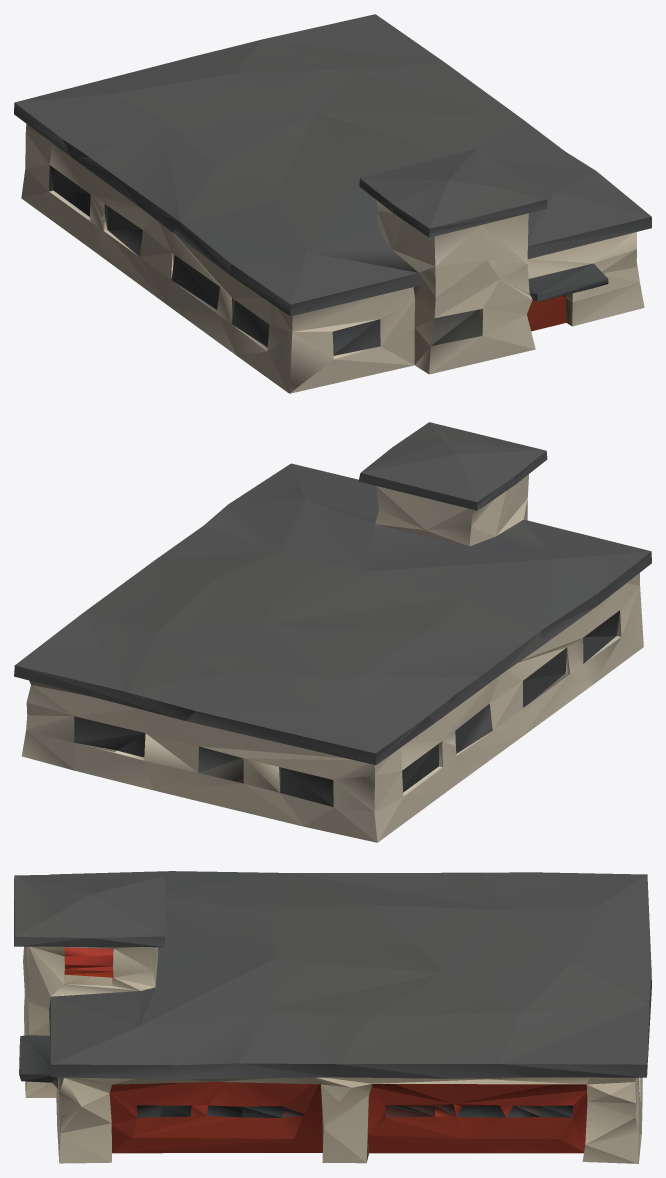
The model's file is fire-station.glb.
3 views of the same model, one above another, from view 1: azimuth 30°, elevation 25°; view 2: azimuth 150°, elevation 25°; view 3: azimuth 270°, elevation 25° (orthographic). The views are drawn at different scales.
Parts seen in each view (by area): view 1: fire-station_LOD0; view 2: fire-station_LOD0; view 3: fire-station_LOD0.
Part boxes in pixels (left/top/right/bottom): fire-station_LOD0: left=14, top=14, right=651, bottom=393; fire-station_LOD0: left=14, top=422, right=651, bottom=842; fire-station_LOD0: left=14, top=871, right=651, bottom=1163.
Size of what is drawn, in the model's own units: 21.59 by 9 by 29.94.
